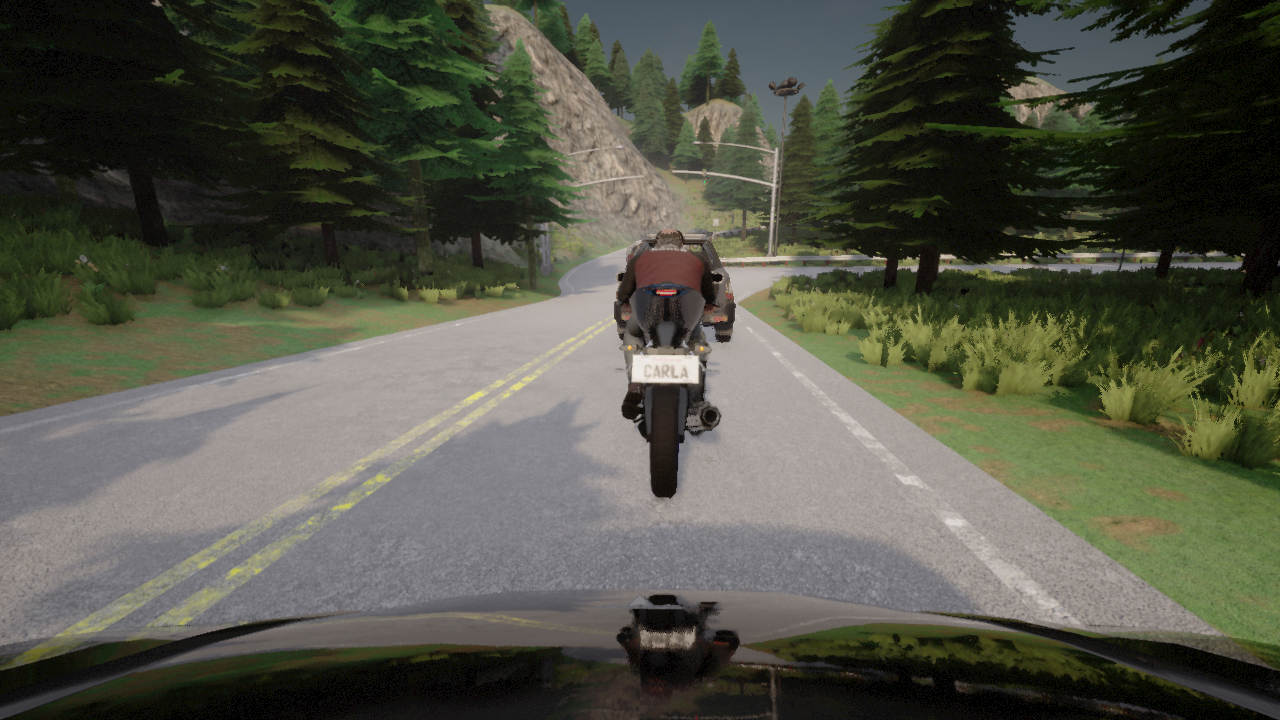cyclist: (0, 588, 1279, 719), (613, 271, 723, 497), (615, 235, 734, 340), (627, 239, 648, 264), (683, 227, 713, 237), (639, 230, 658, 238)
